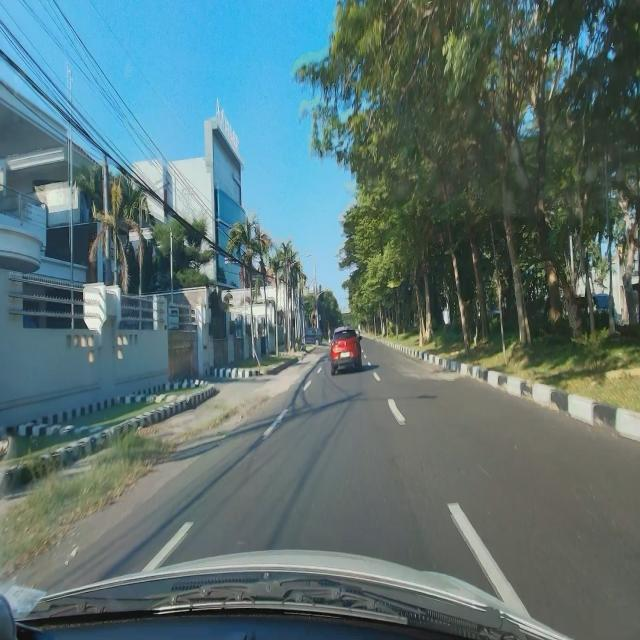car: (331, 324, 364, 377)
